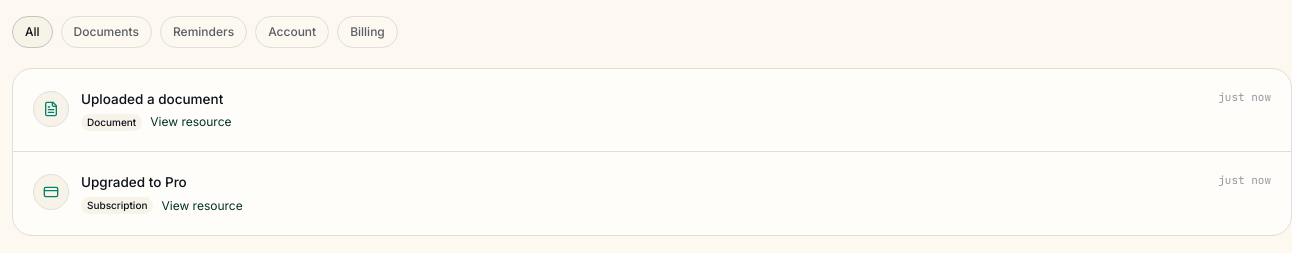
it: ActivityTimeline › filters to billing events
Step 1. Click the button "Billing" → (368, 32), box [337,16,398,48]
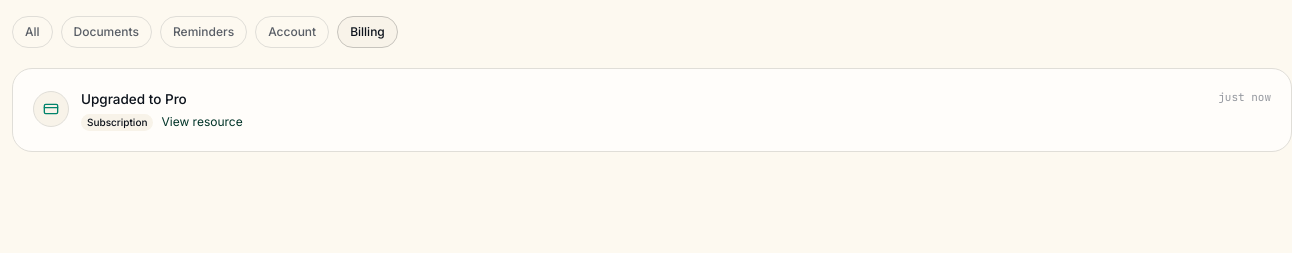
Expected: the text "Upgraded to Pro" is shown, [81,91,187,107]
Now the text "Uploaded a document" is gone
